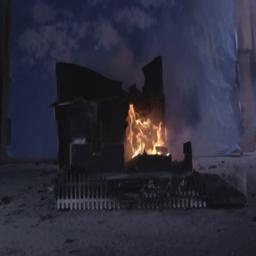fire: (113, 96, 176, 171)
